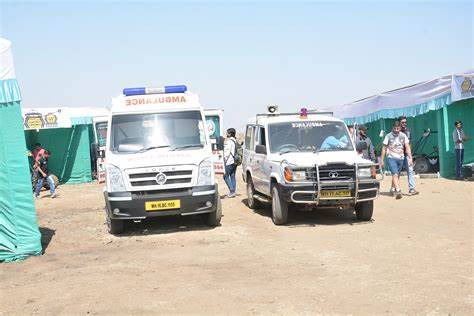ambulance: (94, 83, 234, 230)
